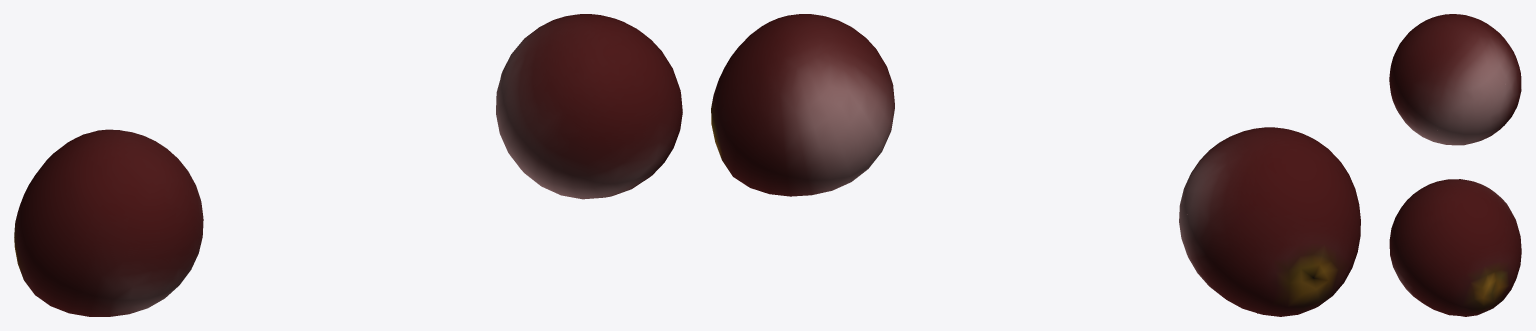
The model's file is Eyes.fbx.
3 views of the same model, side by side, from view 1: azimuth 30°, elevation 25°; view 2: azimuth 150°, elevation 25°; view 3: azimuth 270°, elevation 25° (orthographic). The views are drawn at different scales.
Visible parts, largest first — view 1: Eyes_1; view 2: Eyes_1; view 3: Eyes_1.
Part boxes in pixels (x1=…): Eyes_1: x1=14, y1=14, x2=682, y2=316; Eyes_1: x1=711, y1=14, x2=1360, y2=316; Eyes_1: x1=1389, y1=14, x2=1521, y2=316.
Bounding box in the file's own units: 6.89 × 1.74 × 1.73.
